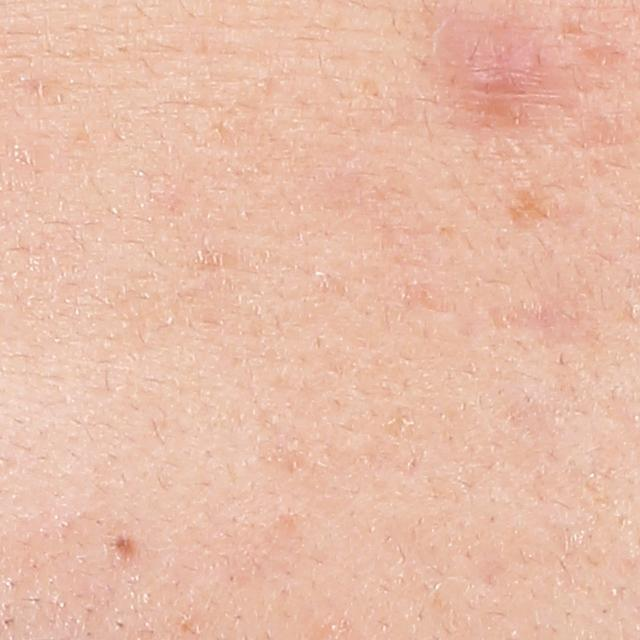nevus: (118, 533, 134, 561)
